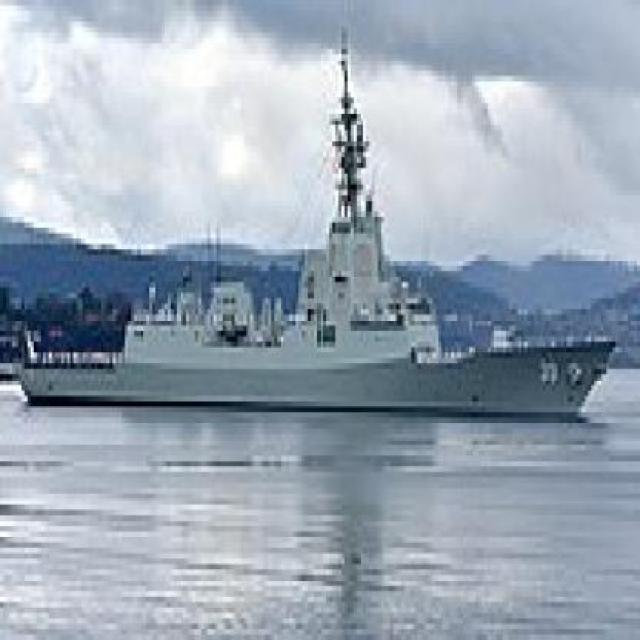warship2: (17, 39, 623, 425)
